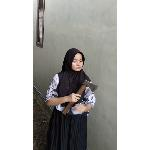Kapak: (62, 79, 102, 115)
